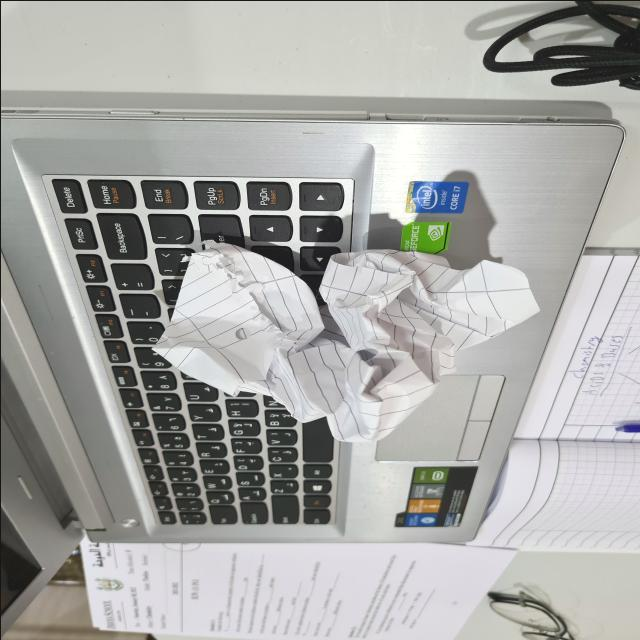Paper: (130, 239, 564, 447)
